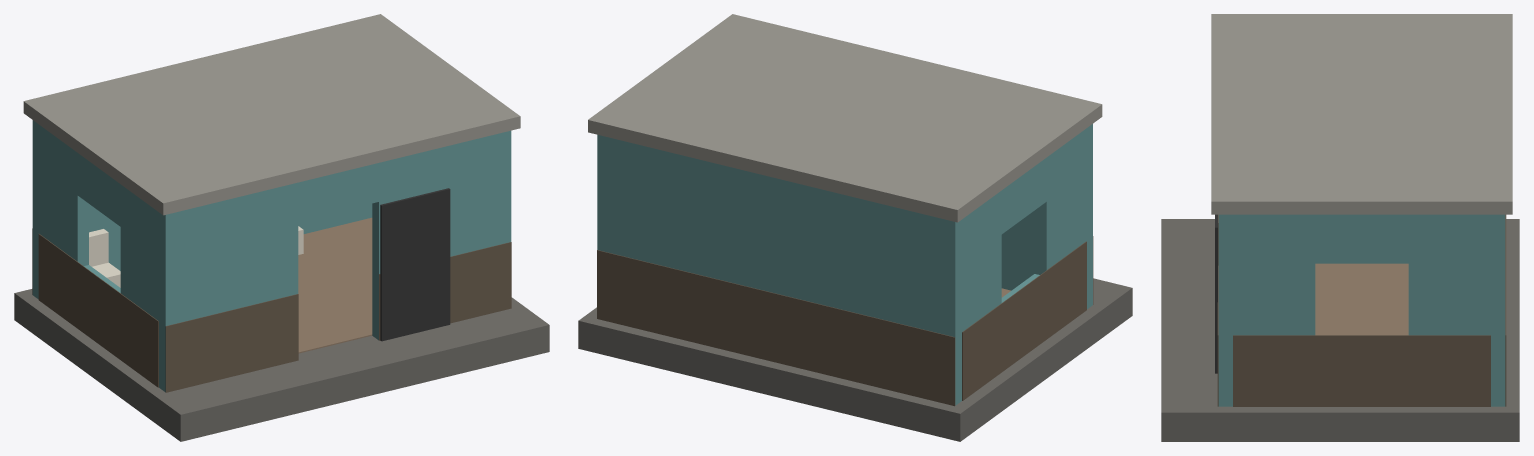
The model's file is banheiro_praia_a.glb.
3 views of the same model, side by side, from view 1: azimuth 30°, elevation 25°; view 2: azimuth 150°, elevation 25°; view 3: azimuth 270°, elevation 25° (orthographic). The views are drawn at different scales.
Parts seen in each view (by area): view 1: banheiro_praia_a; view 2: banheiro_praia_a; view 3: banheiro_praia_a.
Boxes of the visible parts, x1=… form: banheiro_praia_a: x1=14, y1=14, x2=549, y2=441; banheiro_praia_a: x1=578, y1=14, x2=1132, y2=441; banheiro_praia_a: x1=1161, y1=14, x2=1519, y2=441.
Bounding box in the file's own units: 6.4 × 3.65 × 5.
